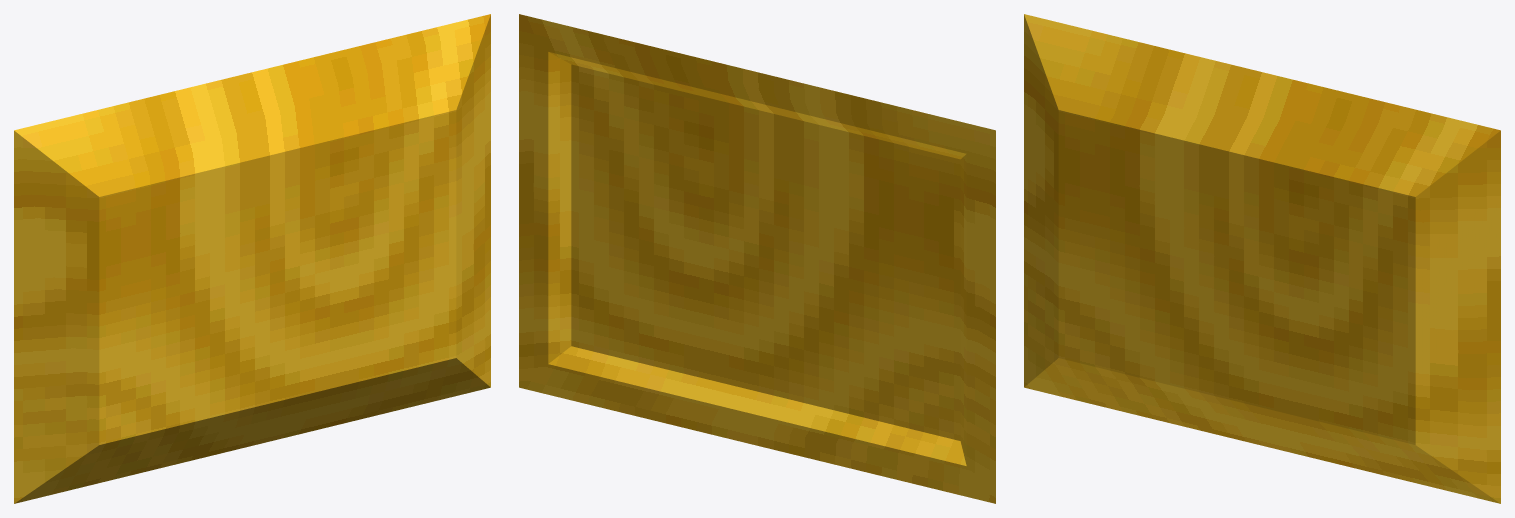
File: tile.glb
The picture shows the model from 3 angles, left to right: view 1: azimuth 30°, elevation 25°; view 2: azimuth 150°, elevation 25°; view 3: azimuth 330°, elevation 25°; orthographic projection.
Visible parts, largest first — view 1: tile; view 2: tile; view 3: tile.
Boxes of the visible parts, x1,y1,x2,y2 form: tile: (14, 14, 490, 503); tile: (519, 14, 995, 503); tile: (1024, 14, 1500, 503).
Bounding box in the file's own units: 326 × 244 × 30.
Materials: 1 (1 with a texture image).
